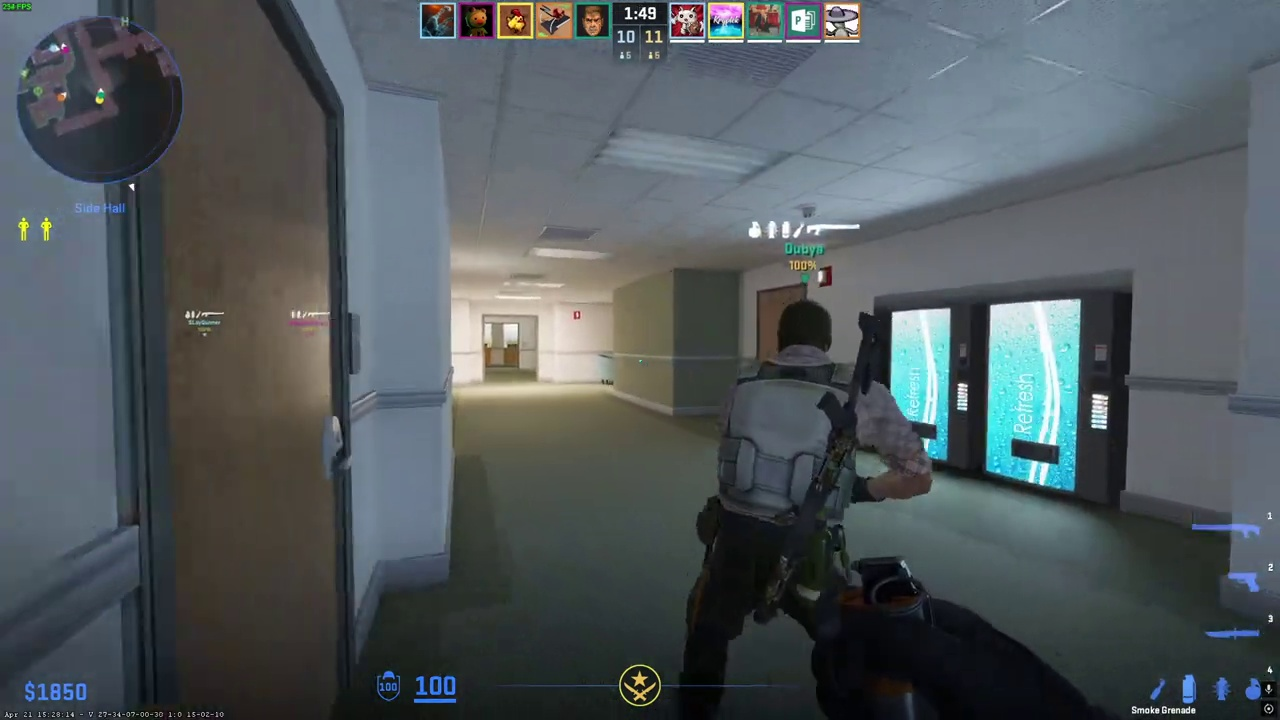Terrorist: (684, 298, 891, 720)
